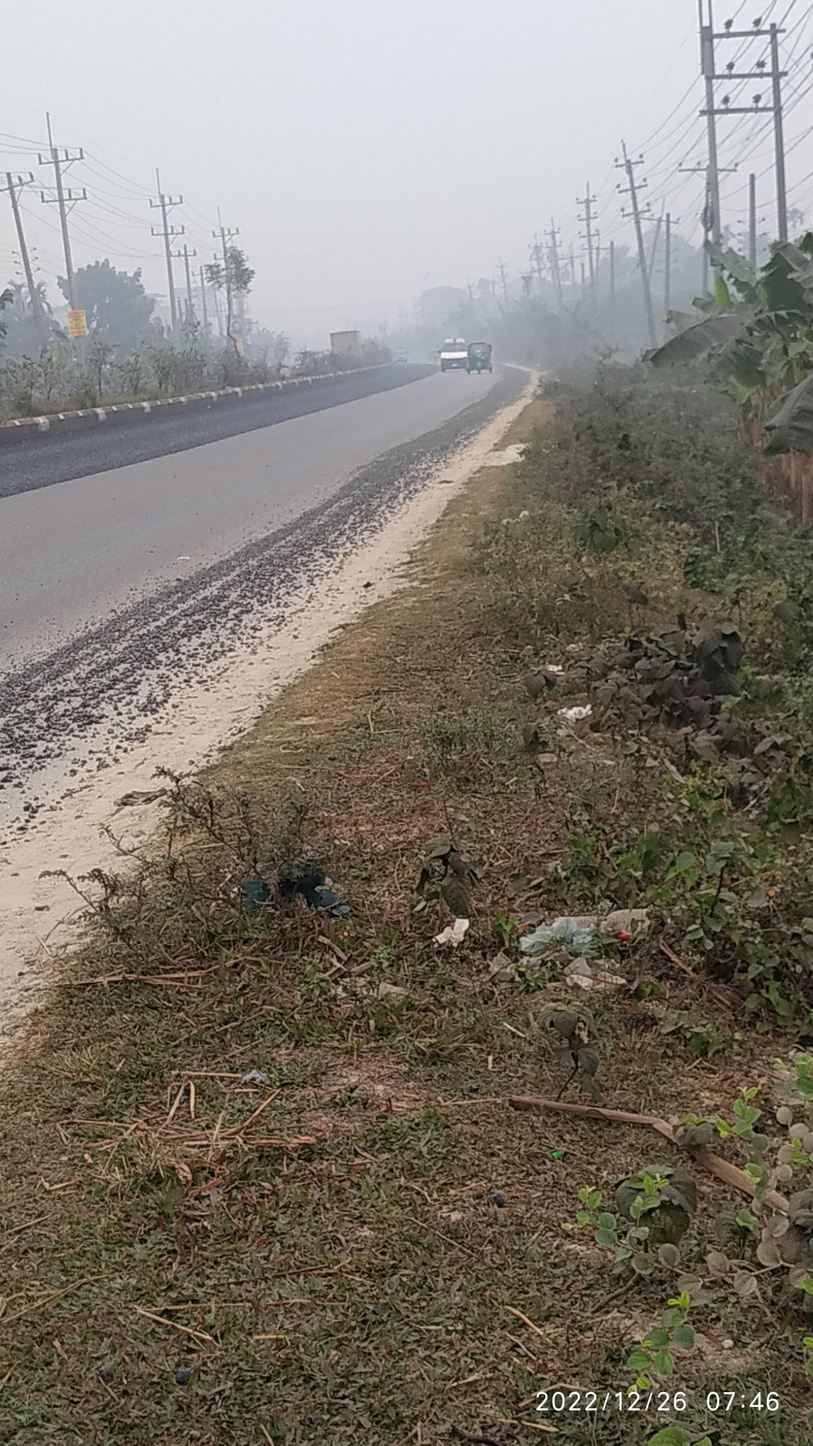Car: (430, 330, 477, 375)
